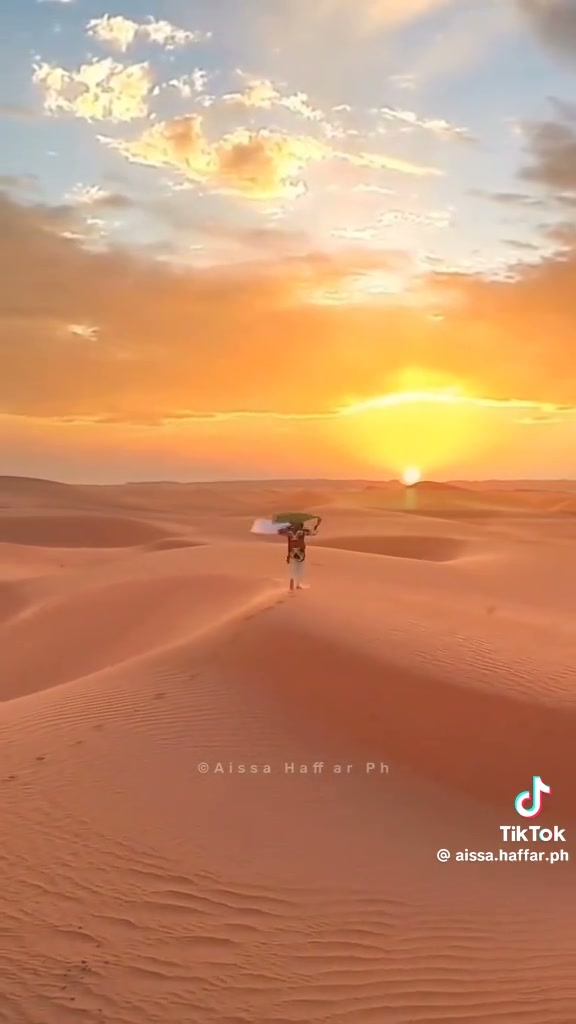human_footprint: (122, 695, 186, 722), (33, 748, 78, 783), (0, 760, 29, 788), (75, 732, 104, 736)
